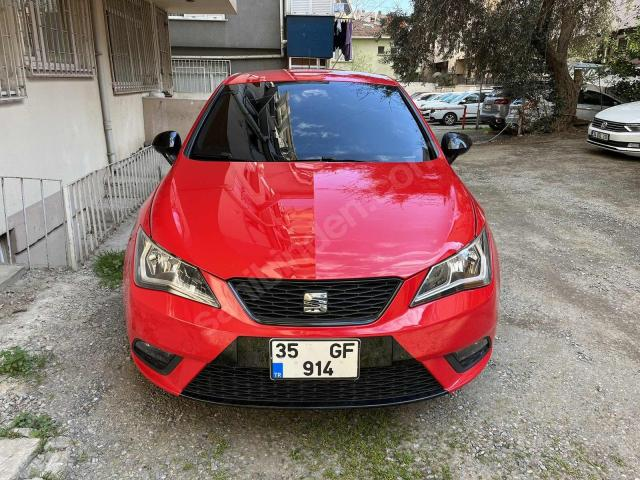plaka: (270, 339, 360, 379)
